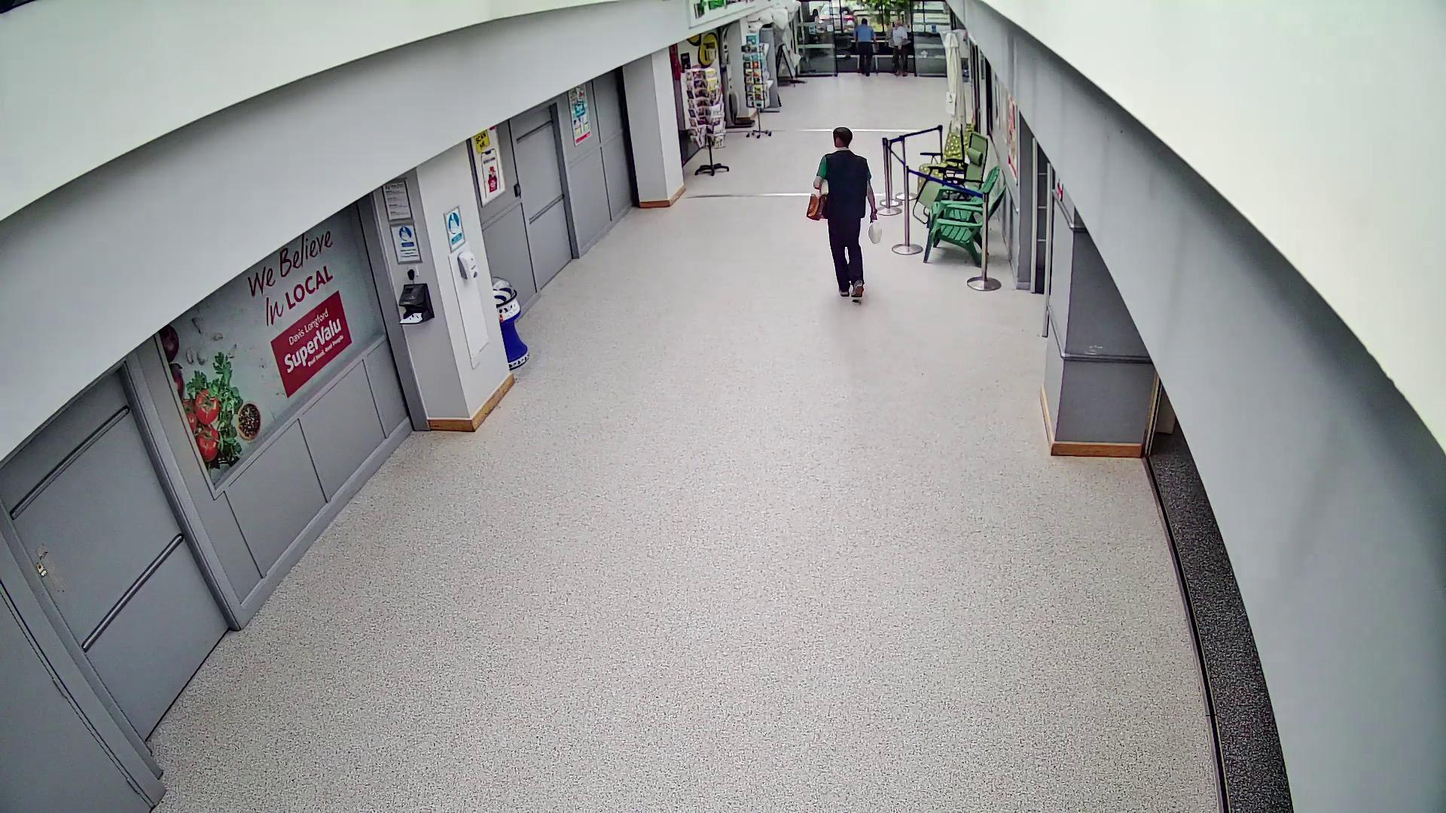carrying-item: (868, 218, 883, 244)
filled-shopping-bags: (806, 191, 829, 220)
person: (813, 127, 877, 302)
person with carrying item-s- and shopping bag-s-: (806, 127, 882, 298)
